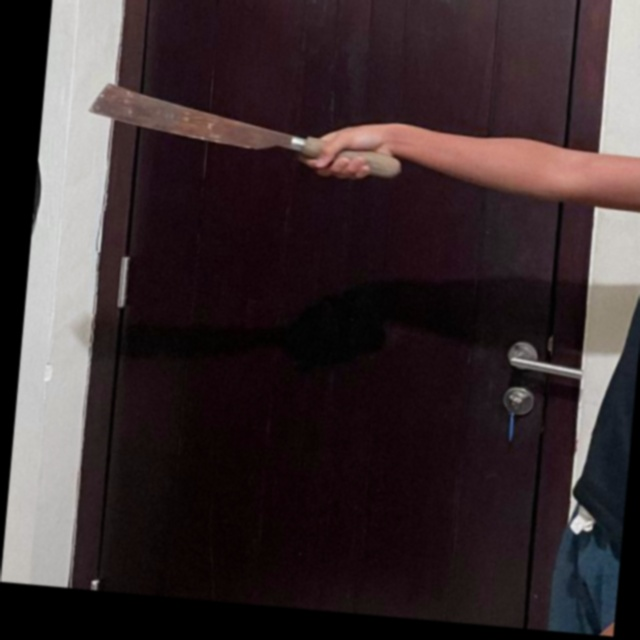Sharp-Object: (82, 79, 410, 184)
